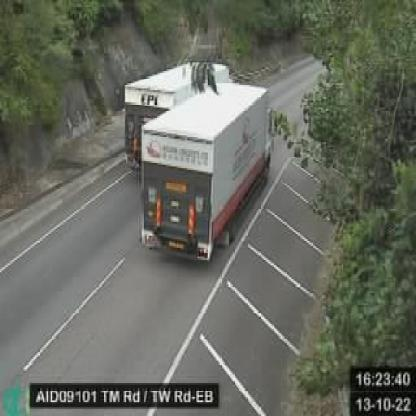Truck: (141, 84, 269, 263), (125, 63, 233, 178)
